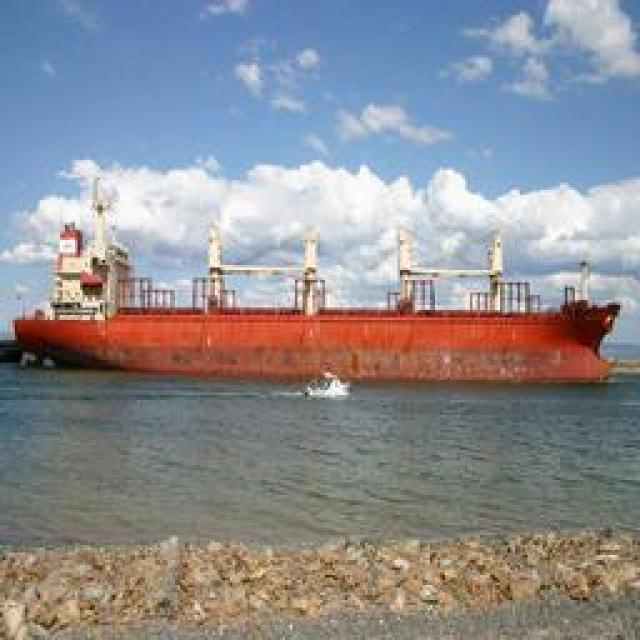ship2: (12, 168, 624, 386)
